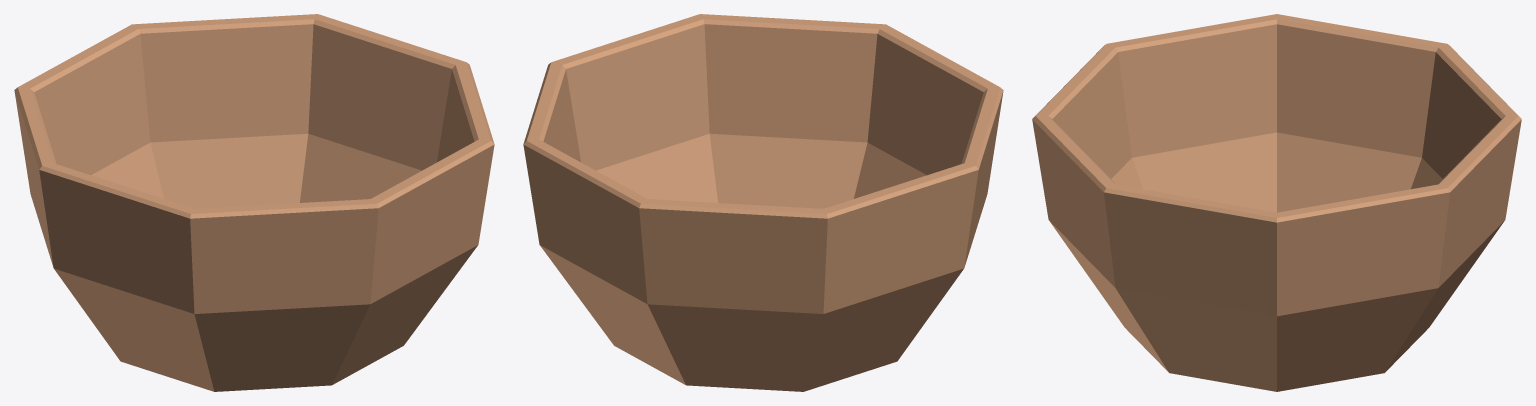
Rendered from Bowl1.glb.
3 renders of one model, left to right at view 1: azimuth 30°, elevation 25°; view 2: azimuth 150°, elevation 25°; view 3: azimuth 270°, elevation 25°, orthographic.
Visible parts, largest first — view 1: Bowl1; view 2: Bowl1; view 3: Bowl1.
Boxes of the visible parts, bbox=[...] form: Bowl1: bbox=[14, 14, 494, 391]; Bowl1: bbox=[523, 14, 1003, 391]; Bowl1: bbox=[1032, 14, 1521, 391].
Bounding box in the file's own units: 0.248 × 0.1182 × 0.248.
